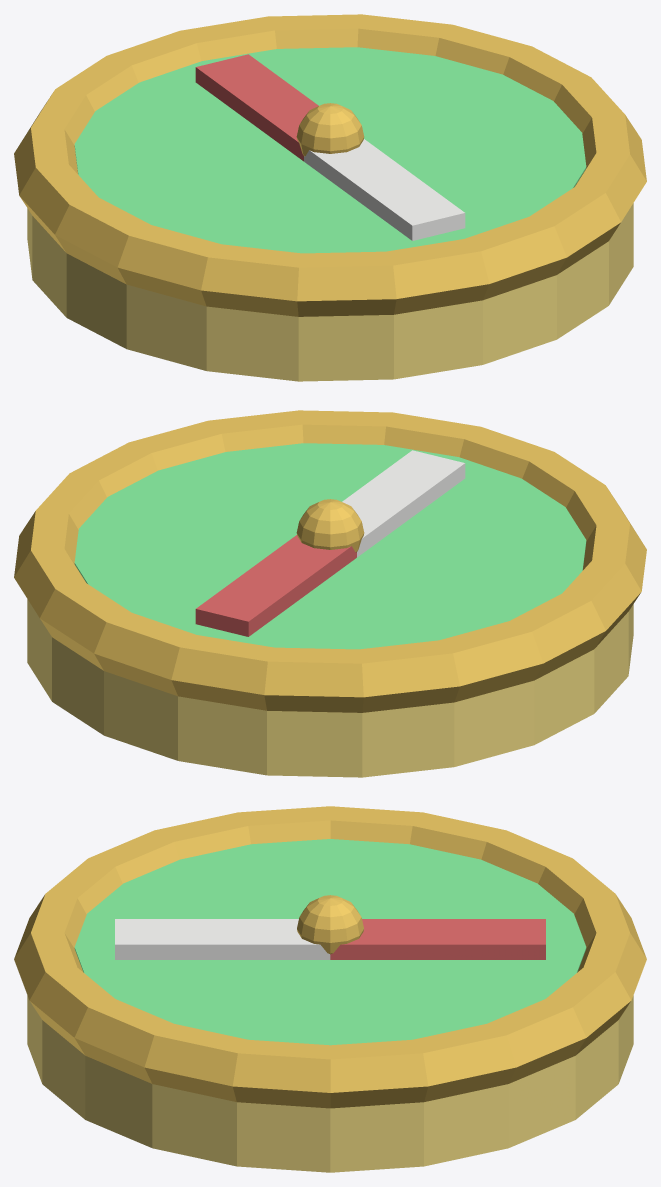
File: compass_out_held.gltf
The picture shows the model from 3 angles, top to bottom: view 1: azimuth 30°, elevation 25°; view 2: azimuth 150°, elevation 25°; view 3: azimuth 270°, elevation 25°; orthographic projection.
Parts seen in each view (by area): view 1: backrooms_compass_out_held; view 2: backrooms_compass_out_held; view 3: backrooms_compass_out_held.
Boxes of the visible parts, x1,y1,x2,y2 form: backrooms_compass_out_held: [14, 14, 646, 381]; backrooms_compass_out_held: [14, 410, 646, 777]; backrooms_compass_out_held: [14, 806, 646, 1172].
Bounding box in the file's own units: 0.094 × 0.024 × 0.094.
